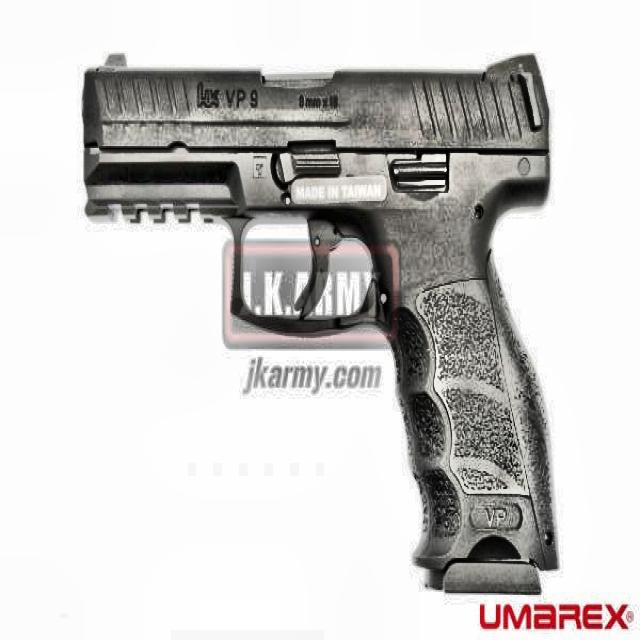HKVP9: (80, 47, 562, 595)
